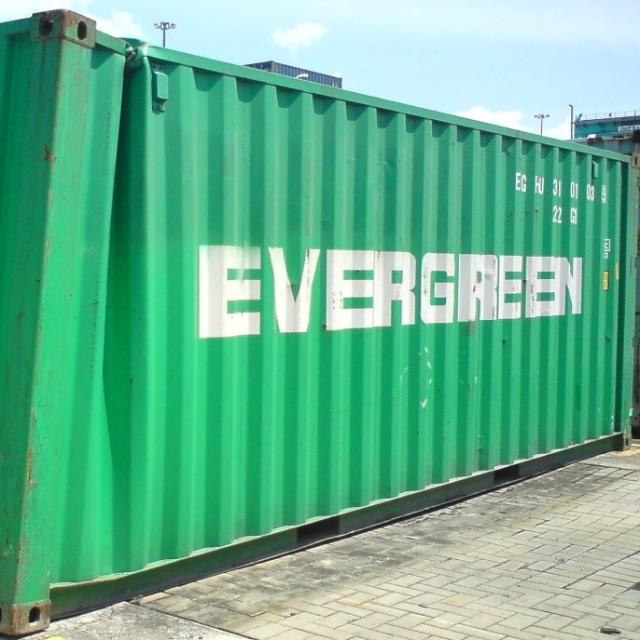dent: (99, 84, 138, 486)
